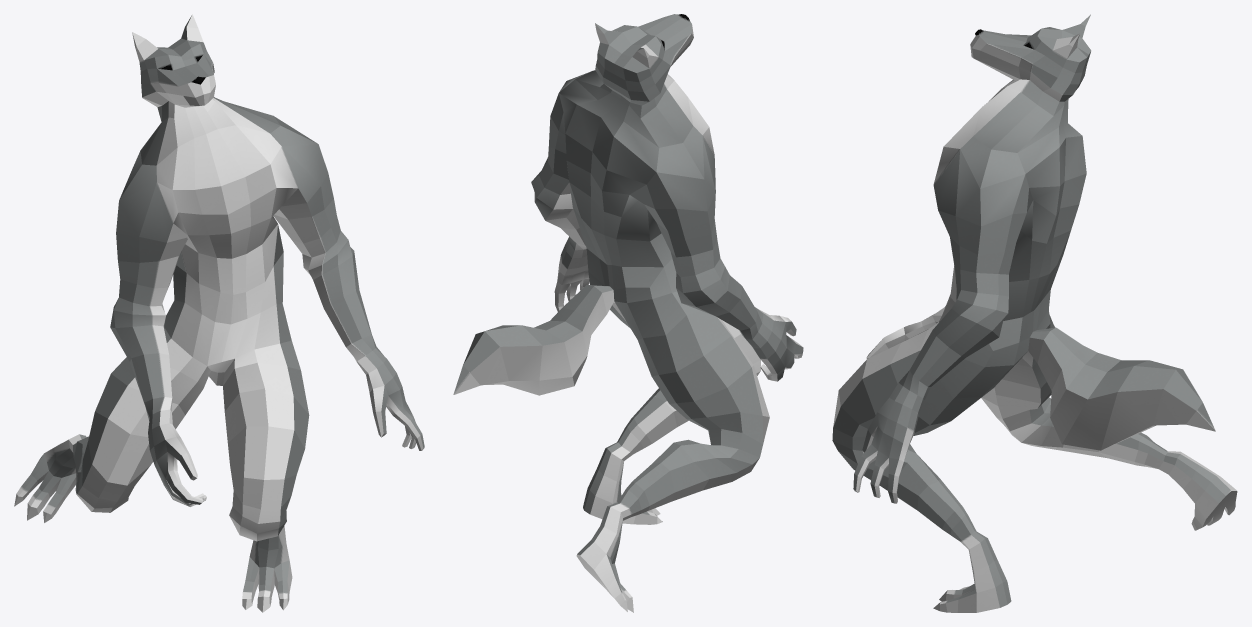
File: WolfDead(18).obj
3 views of the same model, side by side, from view 1: azimuth 30°, elevation 25°; view 2: azimuth 150°, elevation 25°; view 3: azimuth 270°, elevation 25° (orthographic). The views are drawn at different scales.
Parts seen in each view (by area): view 1: Box001; view 2: Box001; view 3: Box001.
Boxes of the visible parts, box(x1,y1,x2,y2) form: Box001: box(14, 14, 424, 612); Box001: box(453, 14, 803, 612); Box001: box(832, 14, 1237, 612).
Bounding box in the file's own units: 71.47 × 138 × 89.42.
